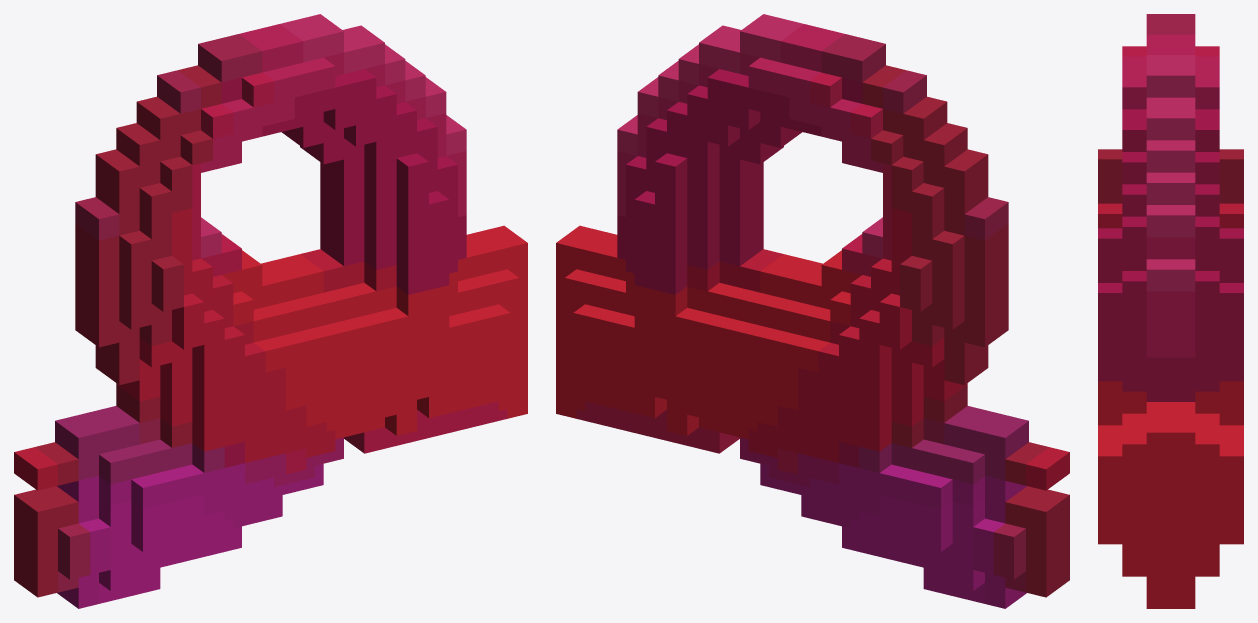
File: scarf.glb
3 views of the same model, side by side, from view 1: azimuth 30°, elevation 25°; view 2: azimuth 150°, elevation 25°; view 3: azimuth 270°, elevation 25° (orthographic). The views are drawn at different scales.
Parts seen in each view (by area): view 1: prop; view 2: prop; view 3: prop.
Part boxes in pixels (box(x1,y1,x2,y2)): prop: box(14, 14, 527, 608); prop: box(556, 14, 1069, 608); prop: box(1098, 14, 1243, 608).
Size of the model in its own units: 16 by 16 by 4.
